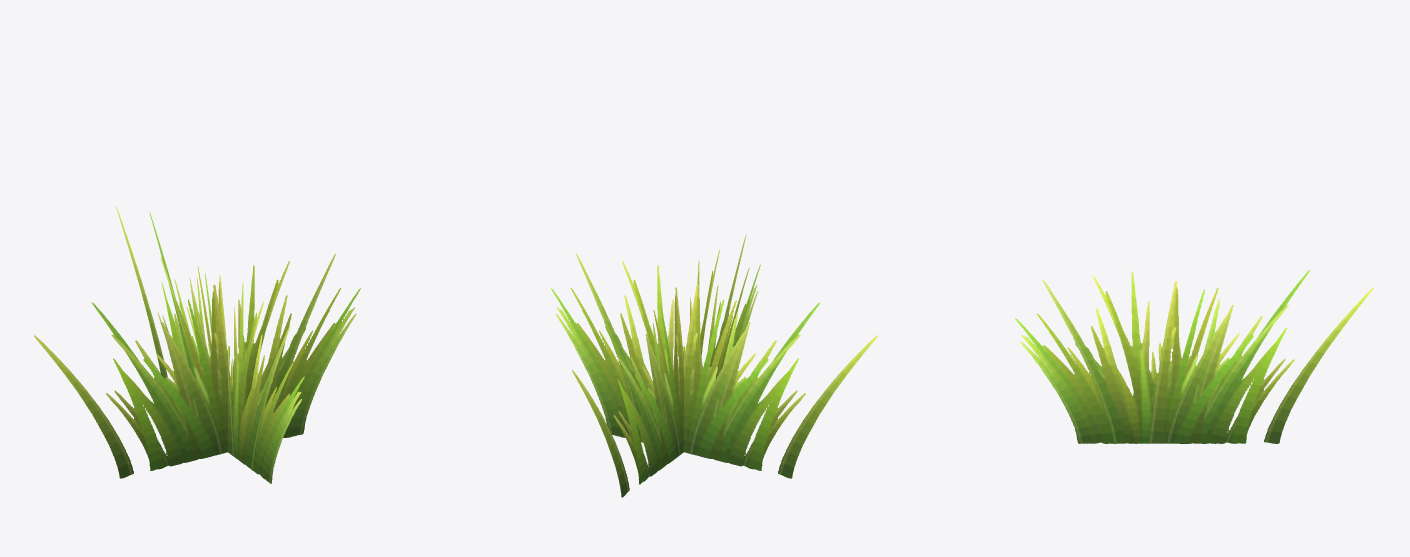
File: grass_tuft.glb
The picture shows the model from 3 angles, left to right: view 1: azimuth 30°, elevation 25°; view 2: azimuth 150°, elevation 25°; view 3: azimuth 270°, elevation 25°; orthographic projection. The views are drawn at different scales.
Visible parts, largest first — view 1: grass_tuft_mesh; view 2: grass_tuft_mesh; view 3: grass_tuft_mesh.
Boxes of the visible parts, x1,y1,x2,y2 form: grass_tuft_mesh: (34,206,360,483); grass_tuft_mesh: (551,234,877,497); grass_tuft_mesh: (1015,269,1373,443).
Bounding box in the file's own units: 0.9 × 0.7 × 0.9.
Materials: 1 (1 with a texture image).
